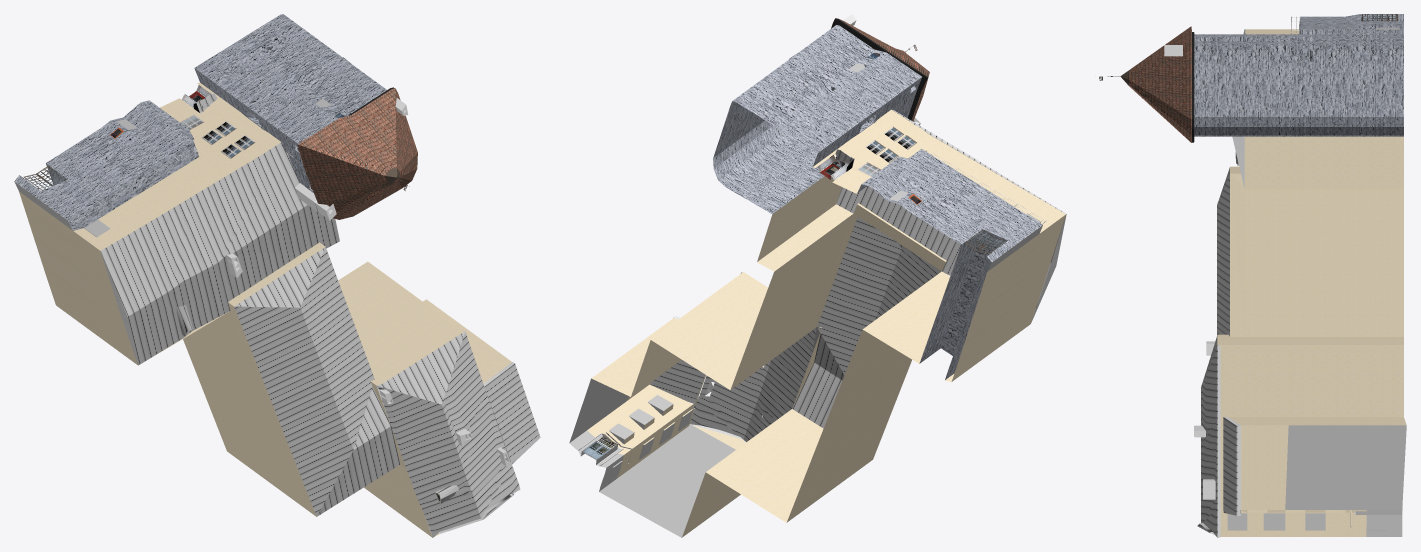
The model's file is Myyrivahe_12-origo.obj.
The picture shows the model from 3 angles, left to right: view 1: azimuth 30°, elevation 25°; view 2: azimuth 150°, elevation 25°; view 3: azimuth 270°, elevation 25°; orthographic projection. The views are drawn at different scales.
Parts seen in each view (by area): view 1: Myyrivahe_12; view 2: Myyrivahe_12; view 3: Myyrivahe_12.
Boxes of the visible parts, x1=… form: Myyrivahe_12: x1=14, y1=14, x2=540, y2=537; Myyrivahe_12: x1=569, y1=14, x2=1066, y2=537; Myyrivahe_12: x1=1099, y1=14, x2=1406, y2=537.
Bounding box in the file's own units: 42.94 × 44 × 27.17.
